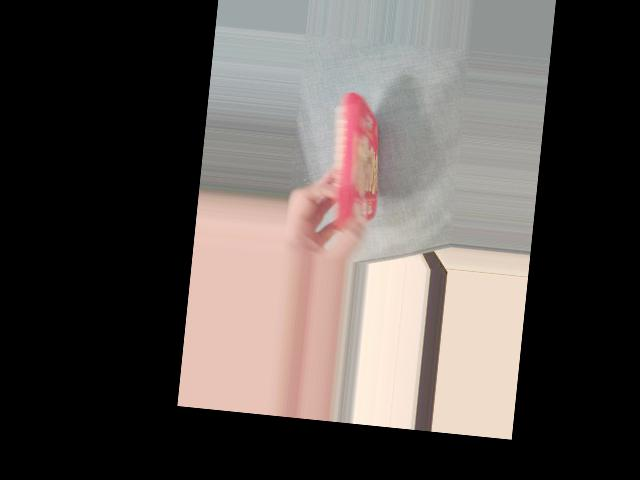cheese: (326, 95, 382, 232)
